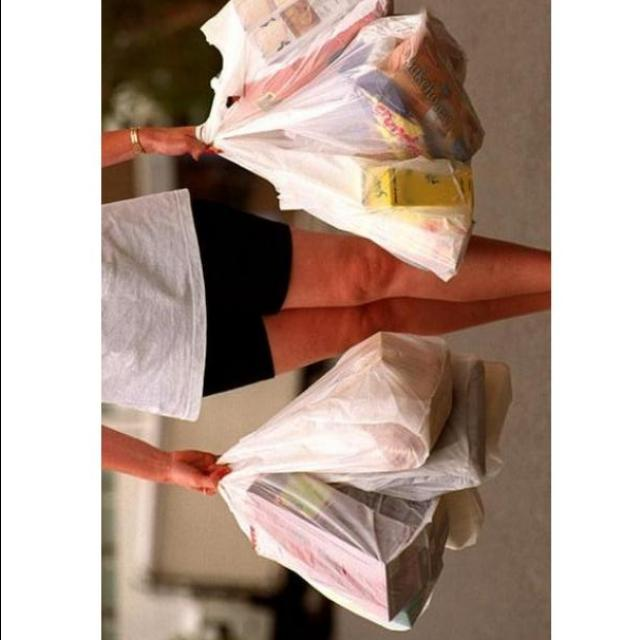plastik: (210, 11, 482, 161), (218, 473, 446, 630), (218, 139, 471, 280), (218, 333, 451, 474), (317, 355, 510, 501), (199, 0, 389, 143)
